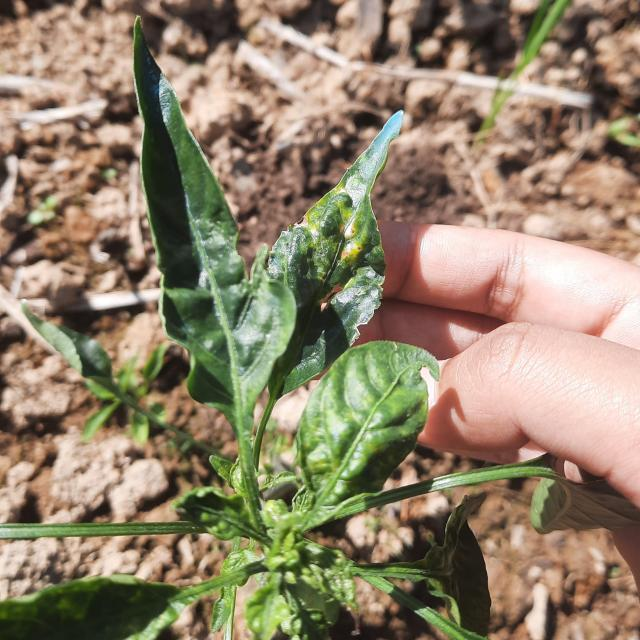bercak_daun: (280, 154, 386, 322)
